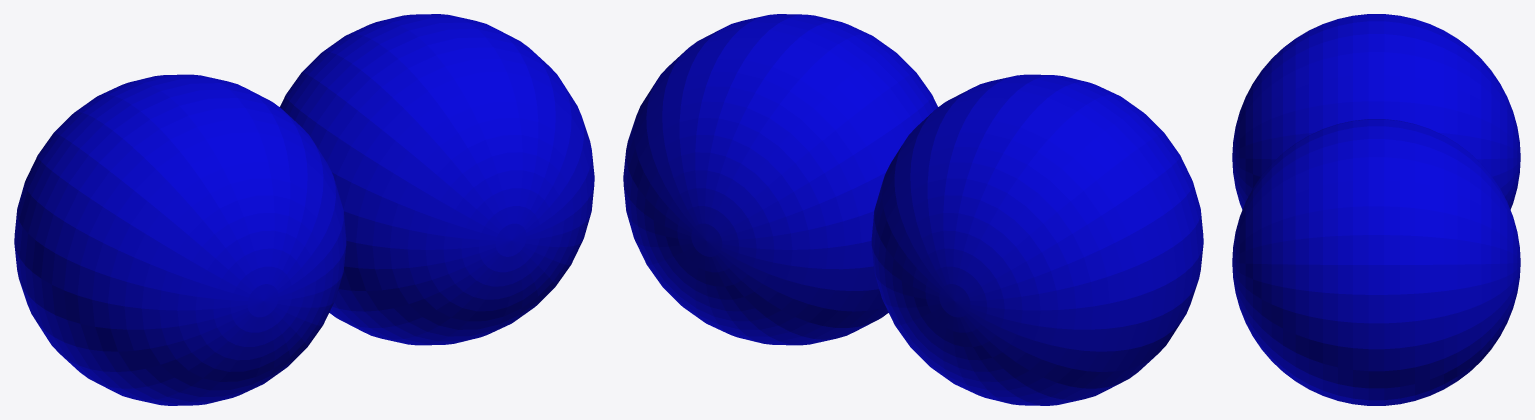
The model's file is Nitrogen.glb.
The picture shows the model from 3 angles, left to right: view 1: azimuth 30°, elevation 25°; view 2: azimuth 150°, elevation 25°; view 3: azimuth 270°, elevation 25°; orthographic projection. The views are drawn at different scales.
Visible parts, largest first — view 1: world; view 2: world; view 3: world.
Boxes of the visible parts, <box> form: world: <box>14,14,594,405</box>; world: <box>623,14,1203,405</box>; world: <box>1232,14,1520,405</box>.
Size of the model in its own units: 2.42 by 1.29 by 1.3.
